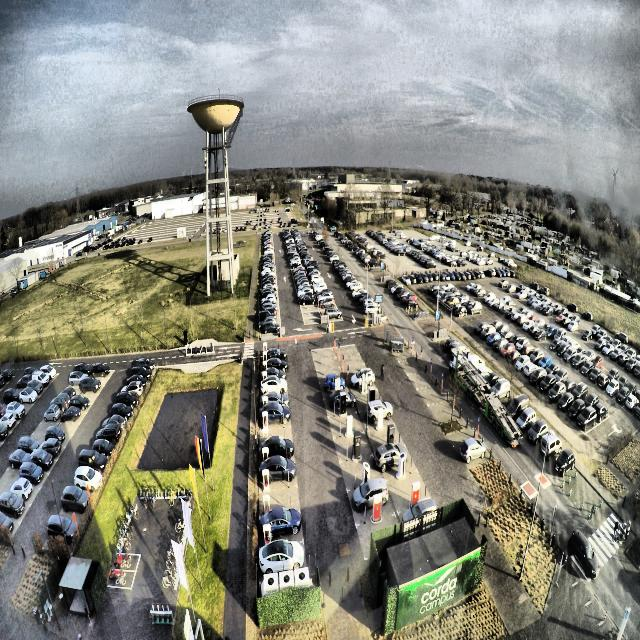cabinet: (264, 567, 309, 590)
car: (259, 539, 304, 574), (260, 508, 302, 539), (260, 455, 297, 487), (260, 435, 295, 460), (259, 401, 292, 427), (260, 391, 290, 410), (259, 357, 289, 373), (261, 376, 288, 393), (260, 367, 287, 381), (263, 348, 287, 362)
parking: (259, 541, 308, 583), (259, 511, 303, 548), (259, 486, 301, 519), (259, 464, 297, 491), (259, 445, 295, 469), (260, 427, 292, 448), (259, 410, 290, 431), (259, 394, 288, 413), (259, 381, 287, 398), (259, 371, 286, 385), (259, 351, 284, 365), (259, 362, 285, 375)
supercharger: (262, 524, 271, 547), (262, 470, 269, 493), (263, 495, 271, 515), (262, 412, 268, 429), (262, 448, 269, 461), (262, 396, 268, 407), (263, 429, 268, 442), (263, 383, 267, 395), (263, 361, 267, 371), (263, 372, 267, 381), (263, 352, 267, 361), (263, 343, 267, 351)
